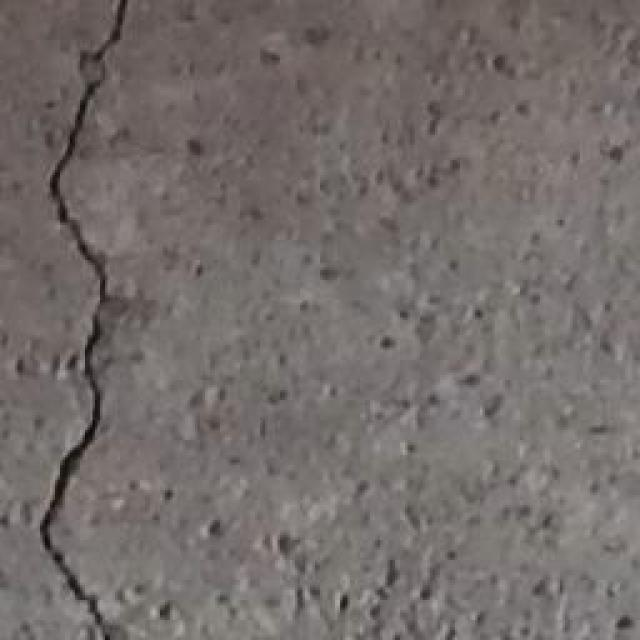concrete-crack: (40, 0, 130, 640)
